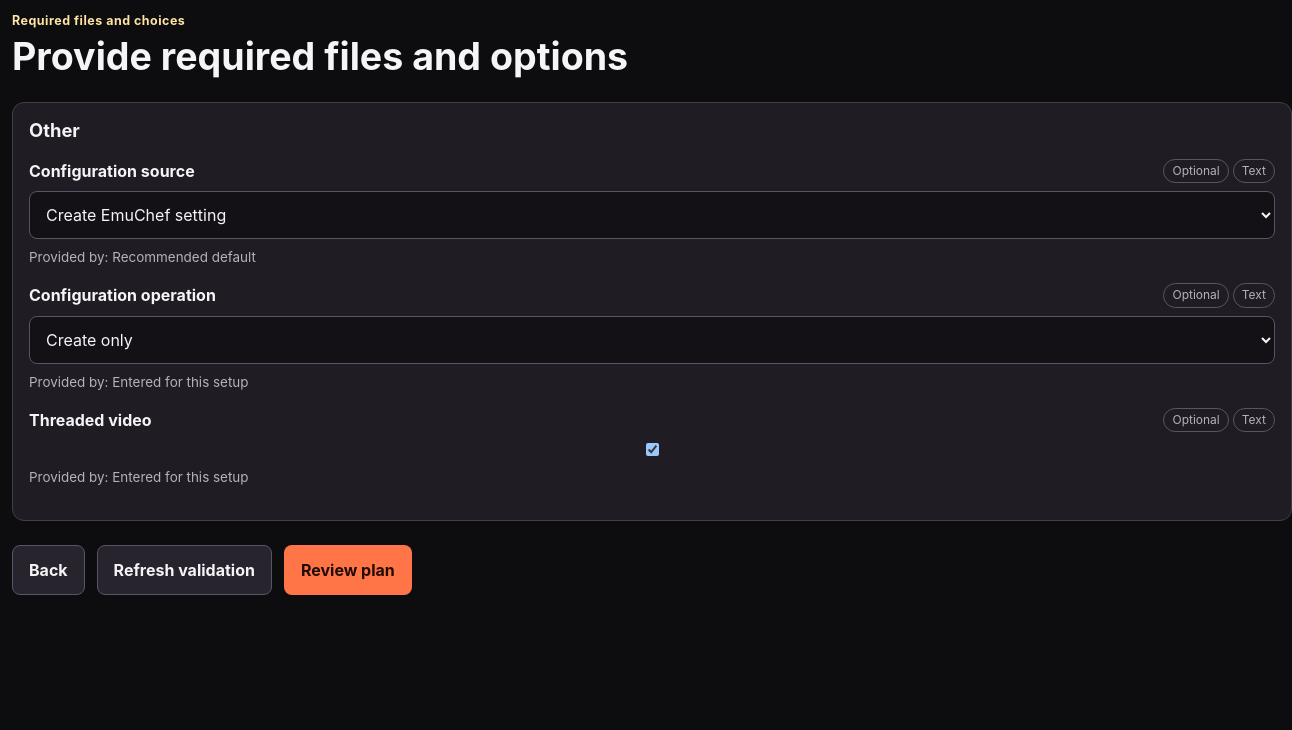
Test case: source changes clear bindings for the modes that are no longer selected
Select "Use supplied file" in the dropdown labelled "Configuration source": x=652, y=215 [29, 191, 1275, 239]
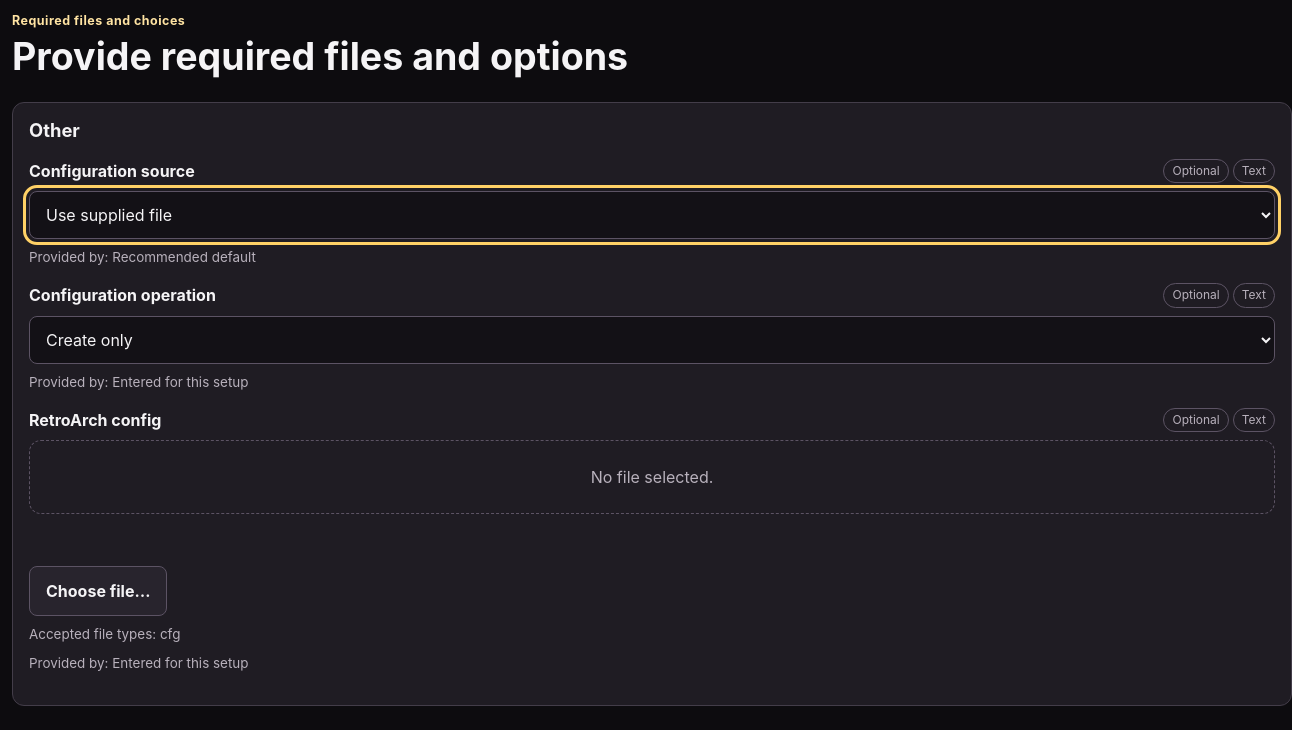
Check: the element named "RetroArch config" is shown, box [29, 440, 1275, 616]
Select "No configuration" in the dropdown labelled "Configuration source": x=652, y=215 [29, 191, 1275, 239]
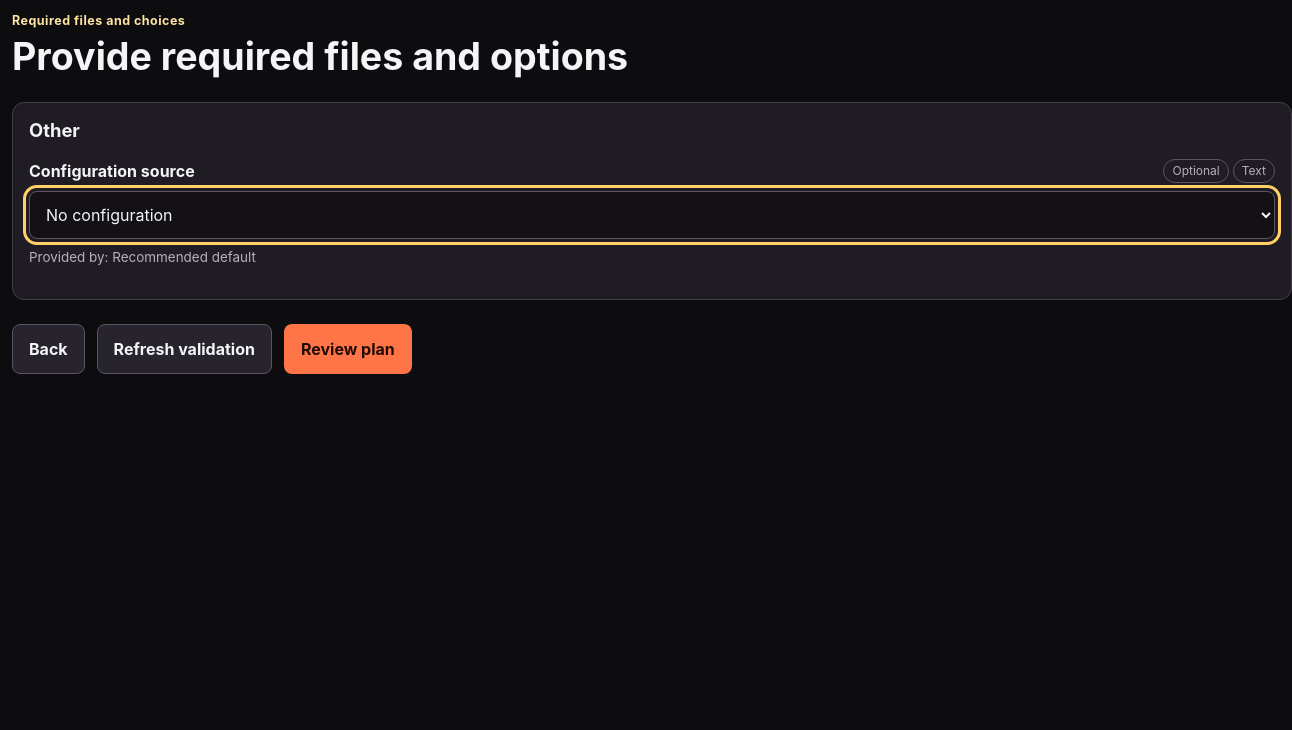
Check: the label labelled "Threaded video" is not shown
Check: the label "RetroArch config" is gone
Select "Create EmuChef setting" in the dropdown labelled "Configuration source": x=652, y=215 [29, 191, 1275, 239]
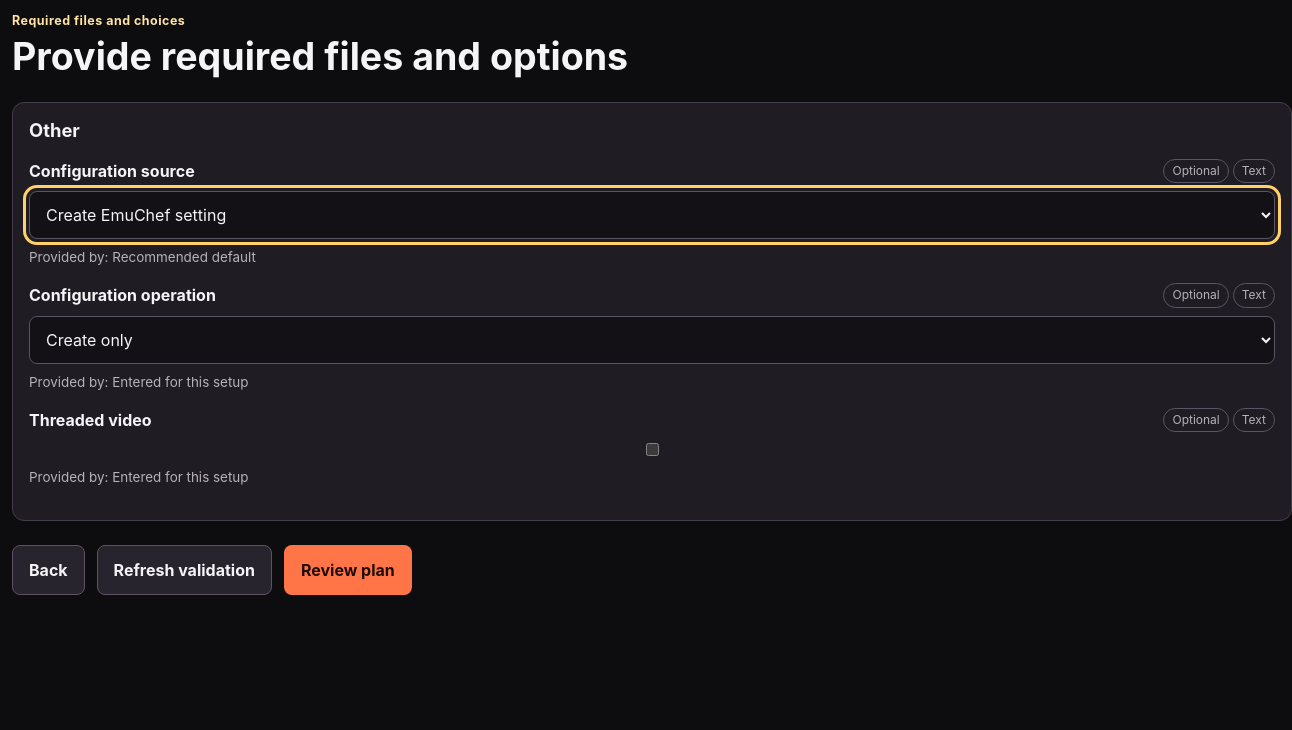
Check: the checkbox labelled "Threaded video" is not checked, box [33, 443, 1272, 456]
